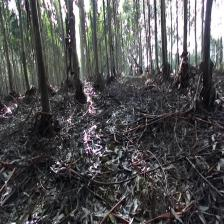trunk: (29, 3, 50, 111), (67, 4, 83, 92), (18, 7, 30, 84), (202, 3, 212, 88), (92, 4, 101, 82), (160, 3, 168, 70), (182, 3, 190, 64)
